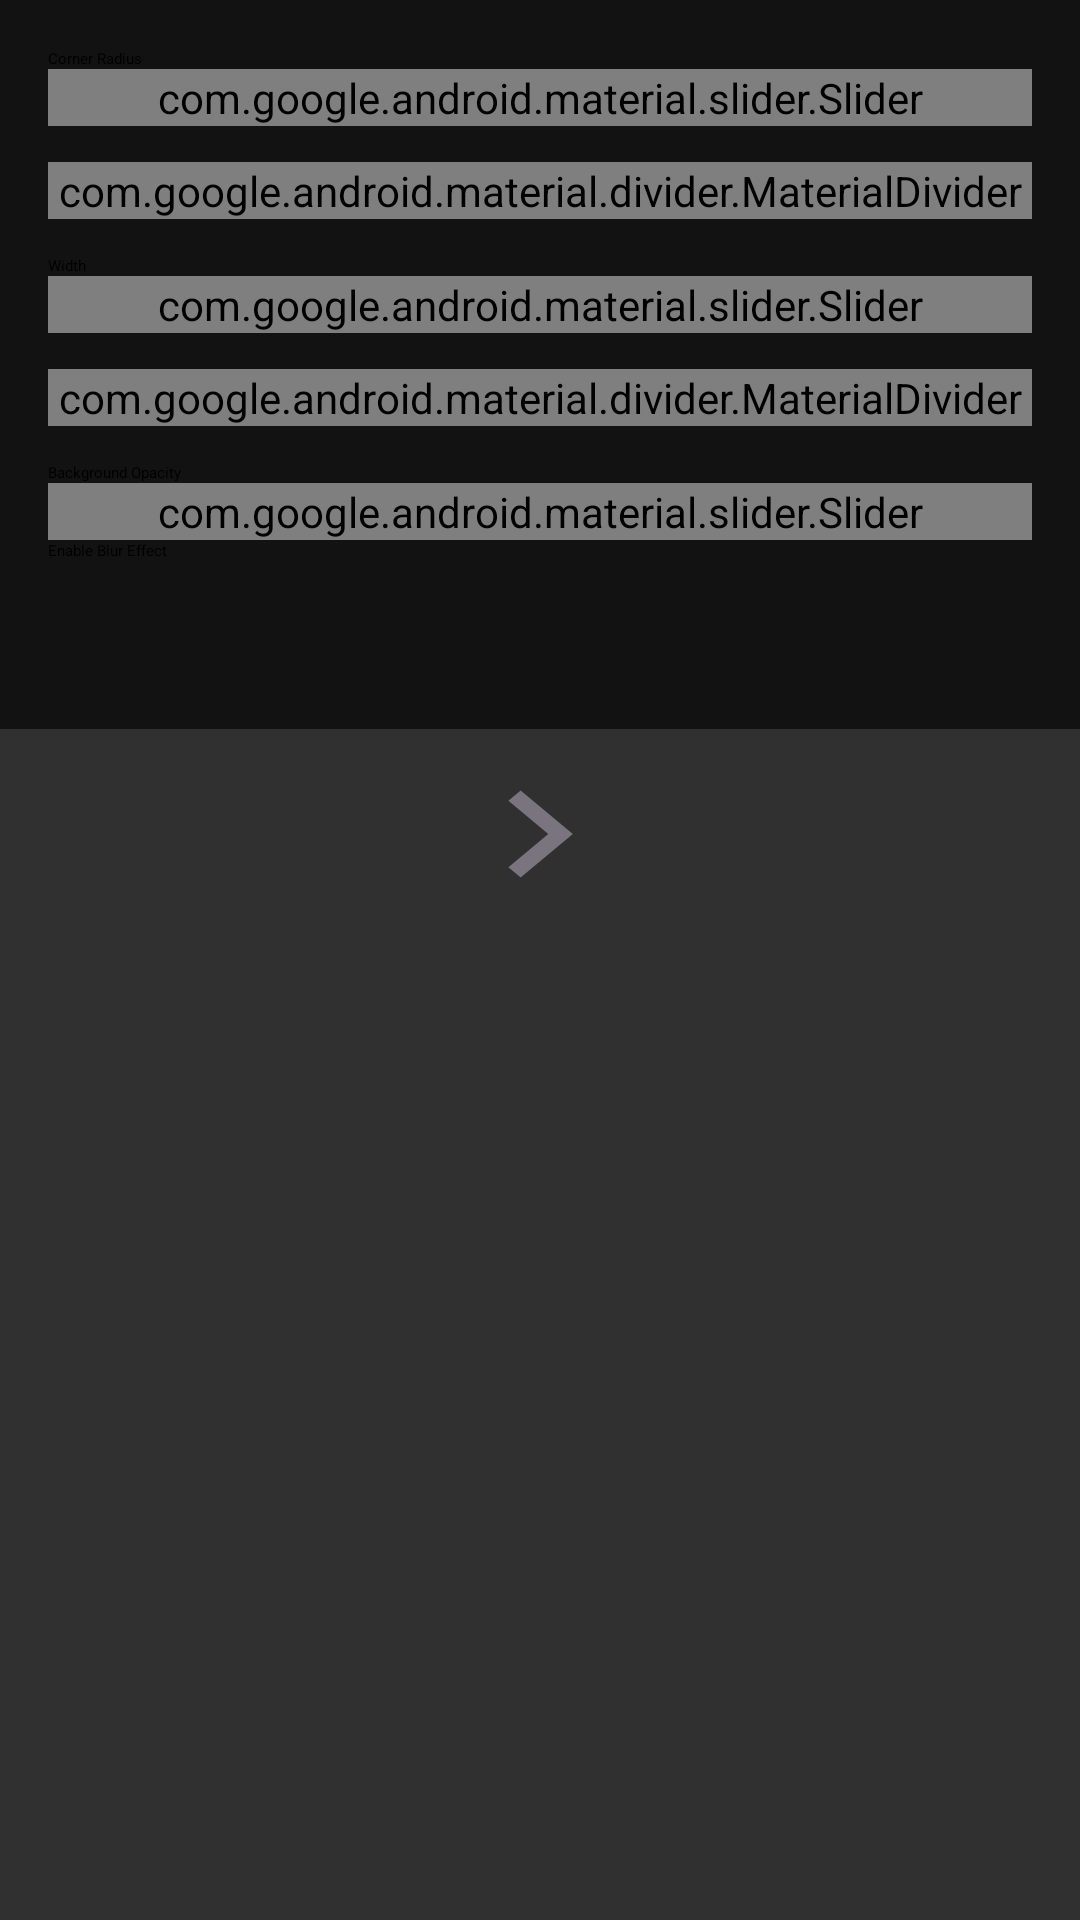

Screen size 1080px x 1920px. Icon name, then its box in pixels as rect(x1, y1, x2, y2):
arrow right: rect(509, 791, 572, 877)
